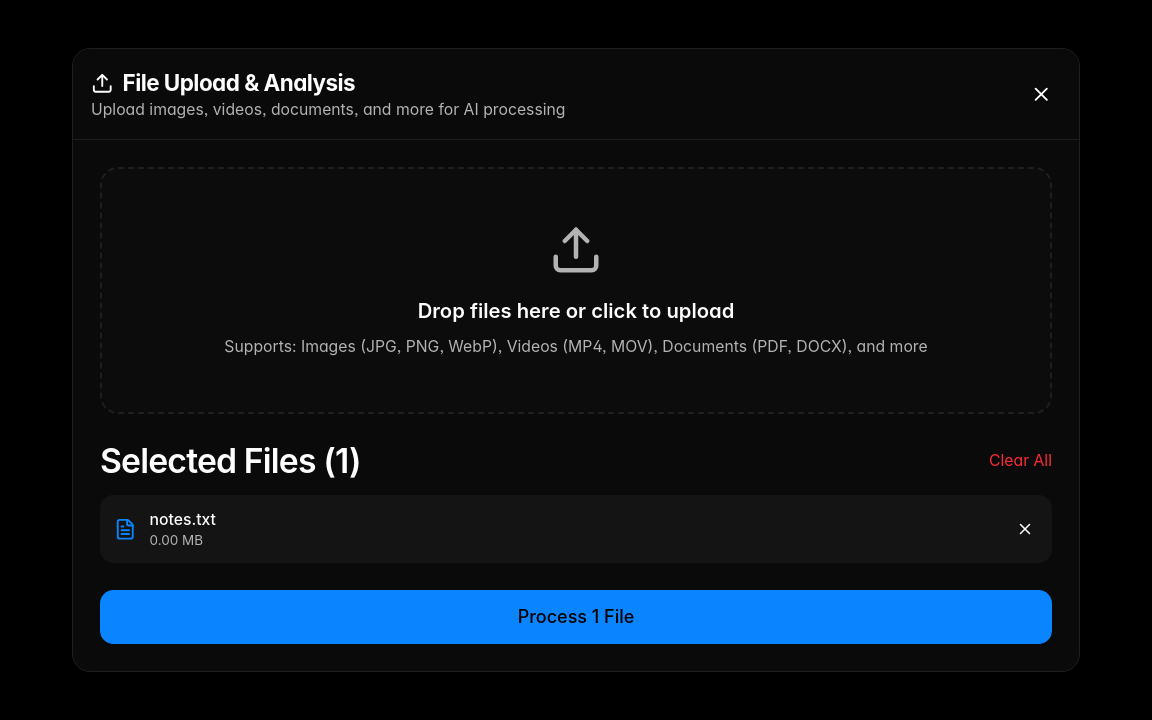
Test: FileUploadPanel › keeps files chosen in chat and reports the HTTP error instead of an empty result
Expected: the text "notes.txt" is shown, x1=150 y1=510 x2=216 y2=529
Click the button "Process 1 File": (576, 617) x1=100 y1=590 x2=1052 y2=644
(page scrolled)
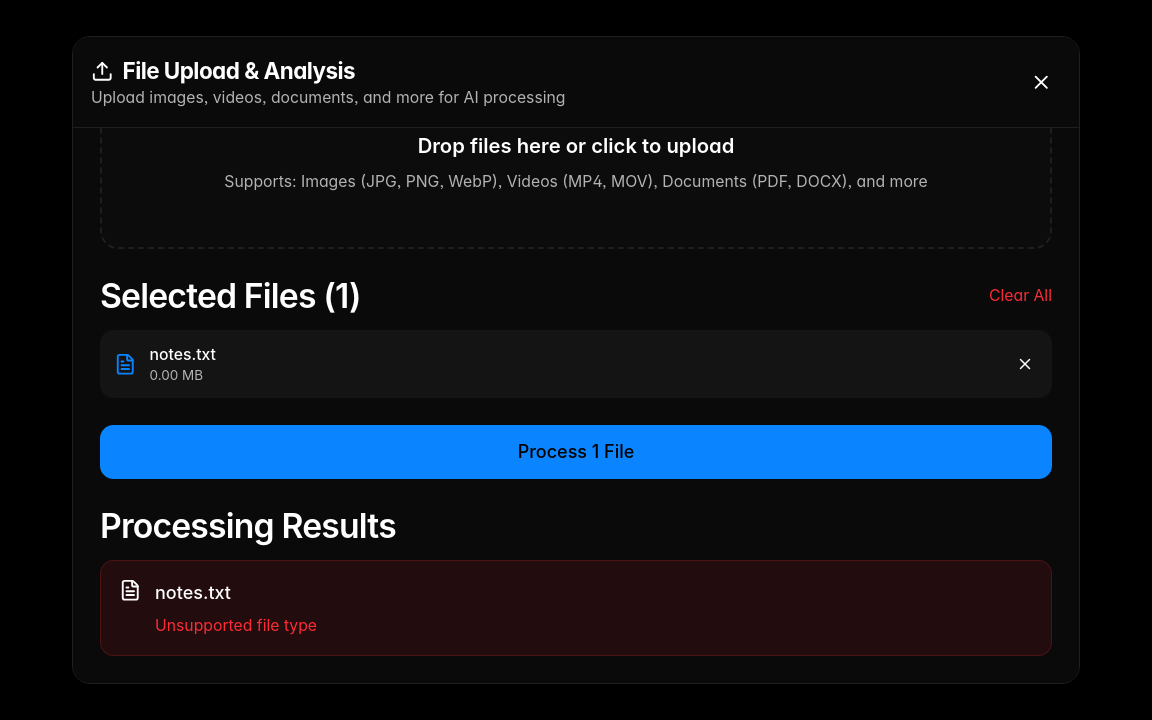
Expected: the text "Unsupported file type" is shown, x1=155 y1=616 x2=317 y2=634
